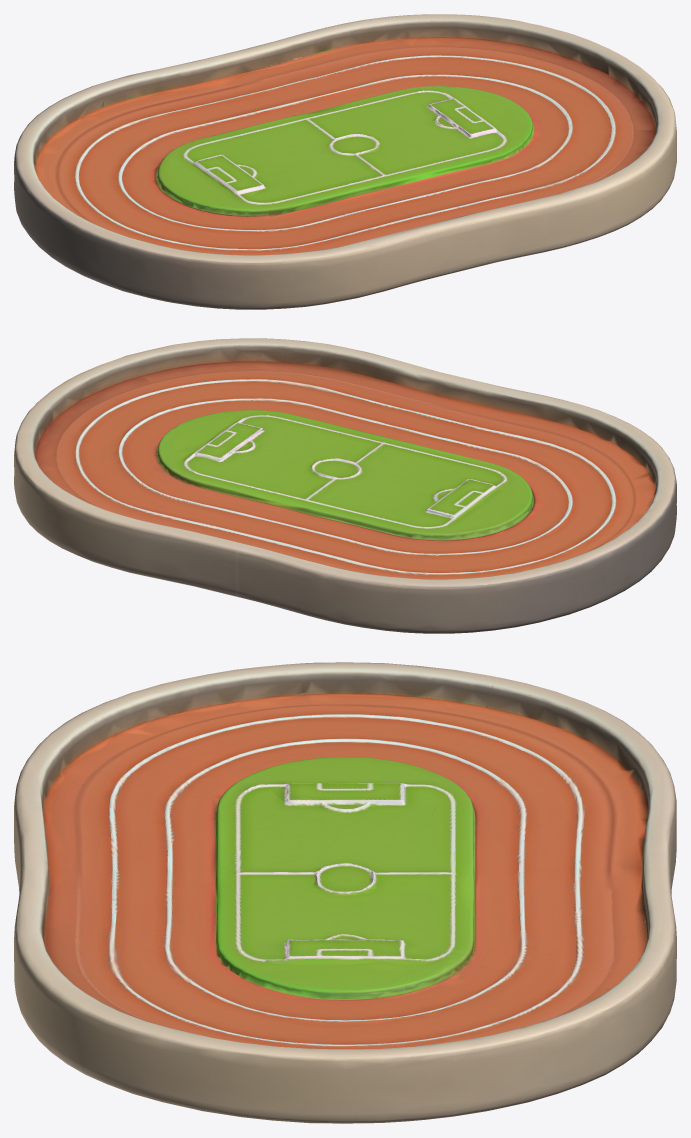
File: stadium.glb
3 renders of one model, top to bottom at view 1: azimuth 30°, elevation 25°; view 2: azimuth 150°, elevation 25°; view 3: azimuth 270°, elevation 25°, orthographic. The views are drawn at different scales.
Visible parts, largest first — view 1: tripo_node_05c0484d-9624-439c-ae82-87c985e645b6; view 2: tripo_node_05c0484d-9624-439c-ae82-87c985e645b6; view 3: tripo_node_05c0484d-9624-439c-ae82-87c985e645b6.
Part boxes in pixels (x1,y1,x2,y2): tripo_node_05c0484d-9624-439c-ae82-87c985e645b6: (14,14,676,309); tripo_node_05c0484d-9624-439c-ae82-87c985e645b6: (14,338,676,633); tripo_node_05c0484d-9624-439c-ae82-87c985e645b6: (14,662,676,1123).
Bounding box in the file's own units: 1 × 0.0823 × 0.7034.
Materials: 1 (1 with a texture image).
